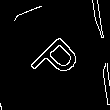P_NE: (24, 24, 86, 86)
